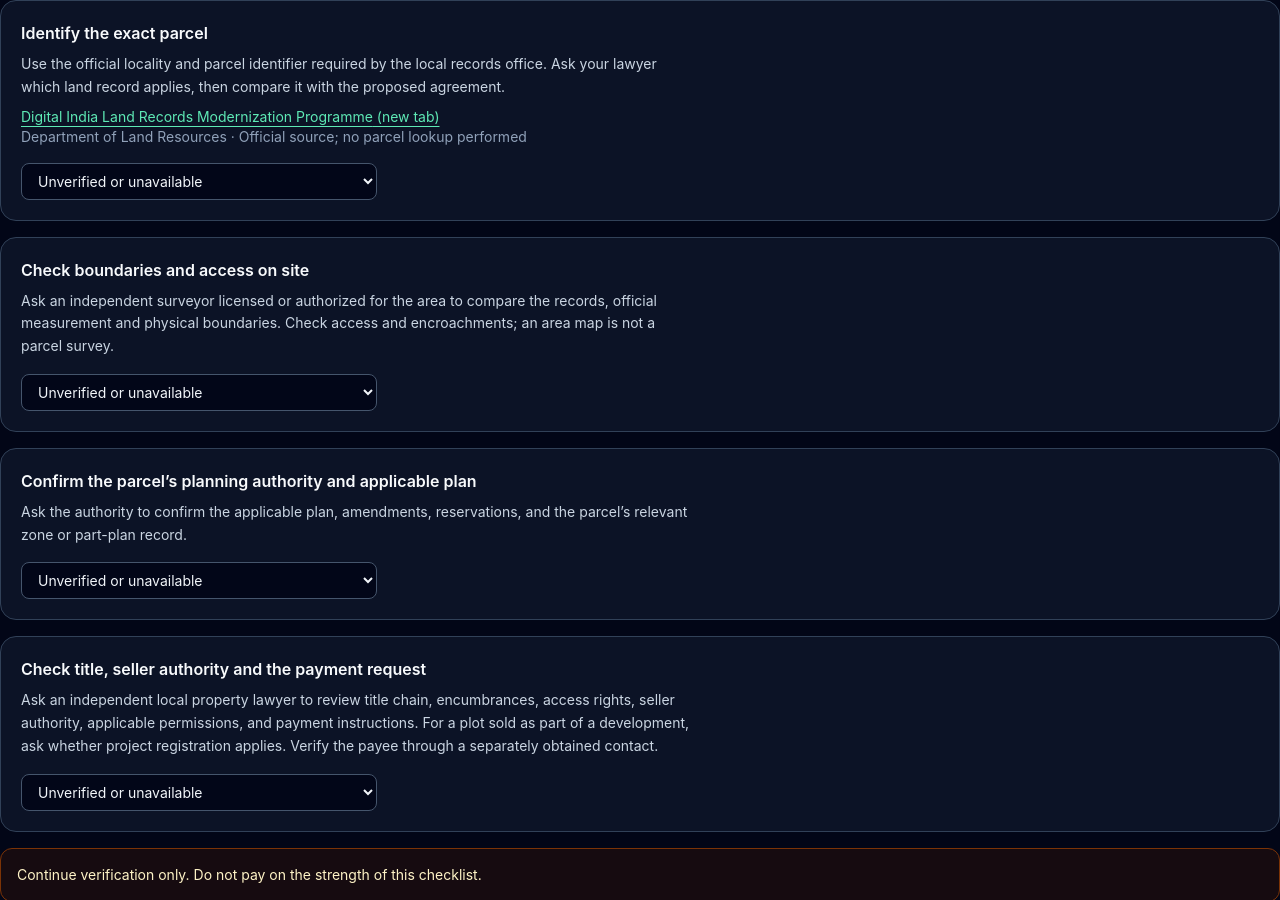
Test case: plot verification › walks a plot buyer from unknown through discrepancy and reported review without a payment clearance
Expected: the message shows "Continue verification only", left=17, top=866, right=482, bottom=882
Step 1. Select "Discrepancy or concern" in the dropdown labelled "Identify the exact parcel" → (199,181), box left=21, top=162, right=377, bottom=200
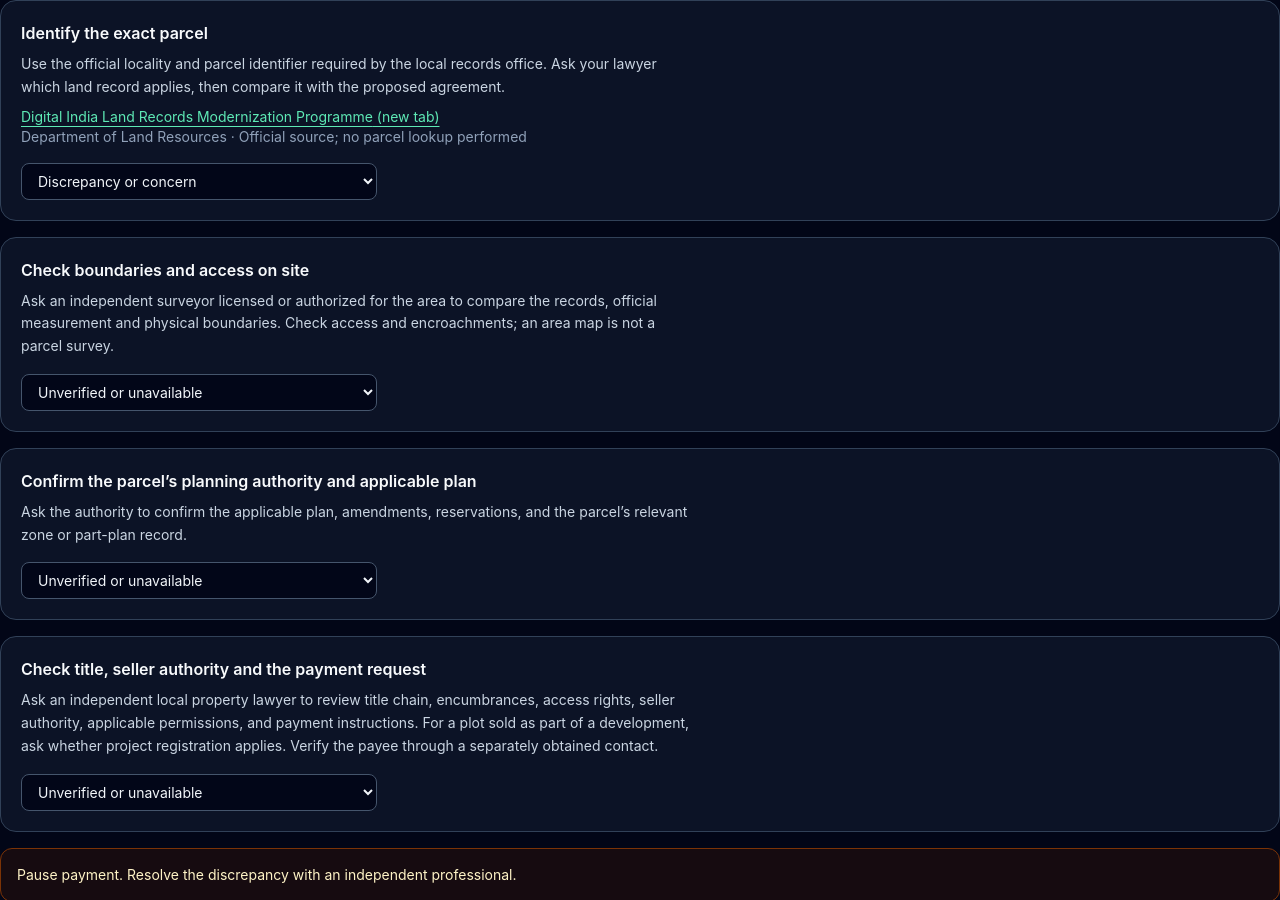
Now the message shows "Pause payment", box left=17, top=866, right=516, bottom=882
Step 2. Select "I obtained and reviewed evidence" in the dropdown labelled "Identify the exact parcel" → (199,181), box left=21, top=162, right=377, bottom=200
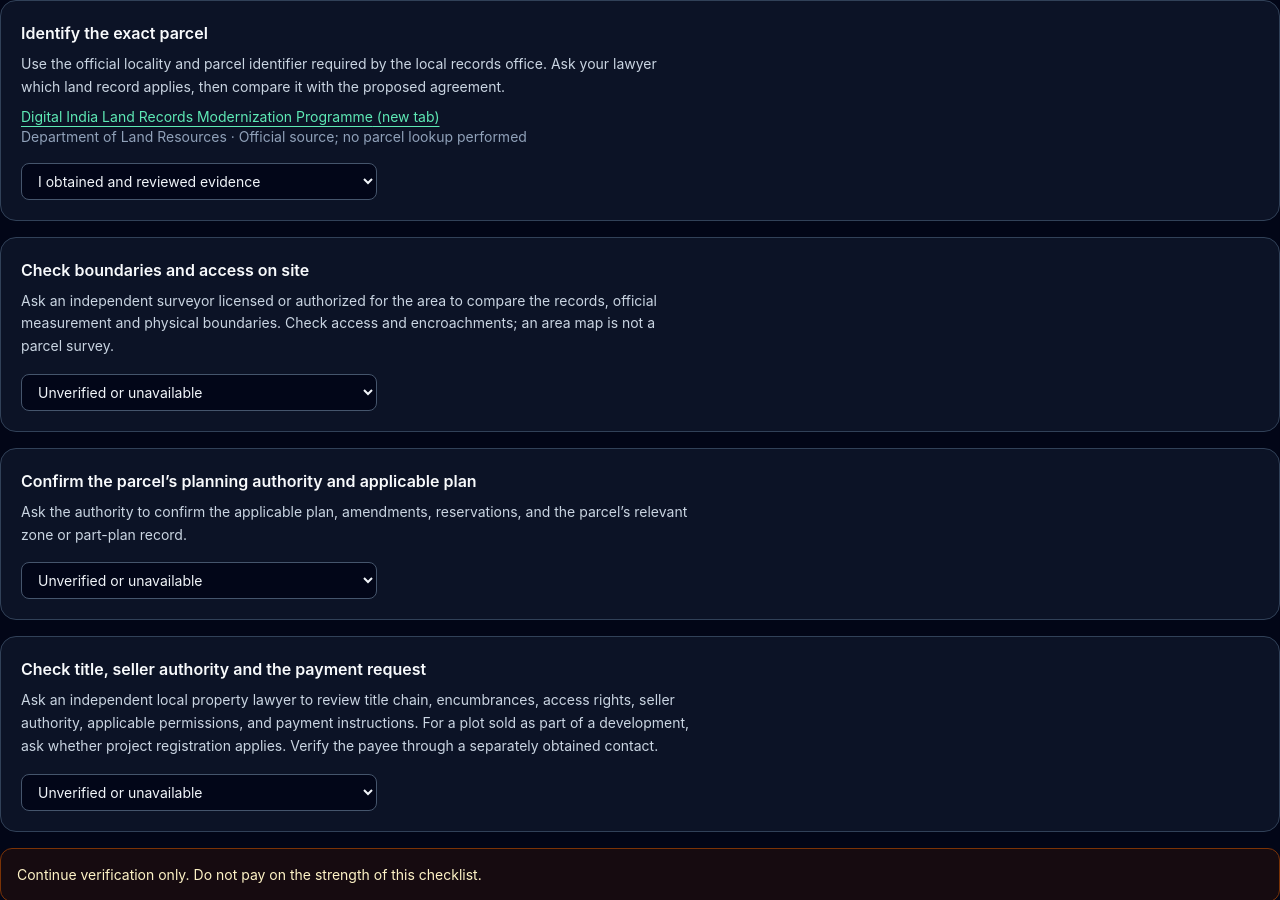
Step 3. Select "I obtained and reviewed evidence" in the dropdown labelled "Check boundaries and access on site" → (199,392), box left=21, top=374, right=377, bottom=411
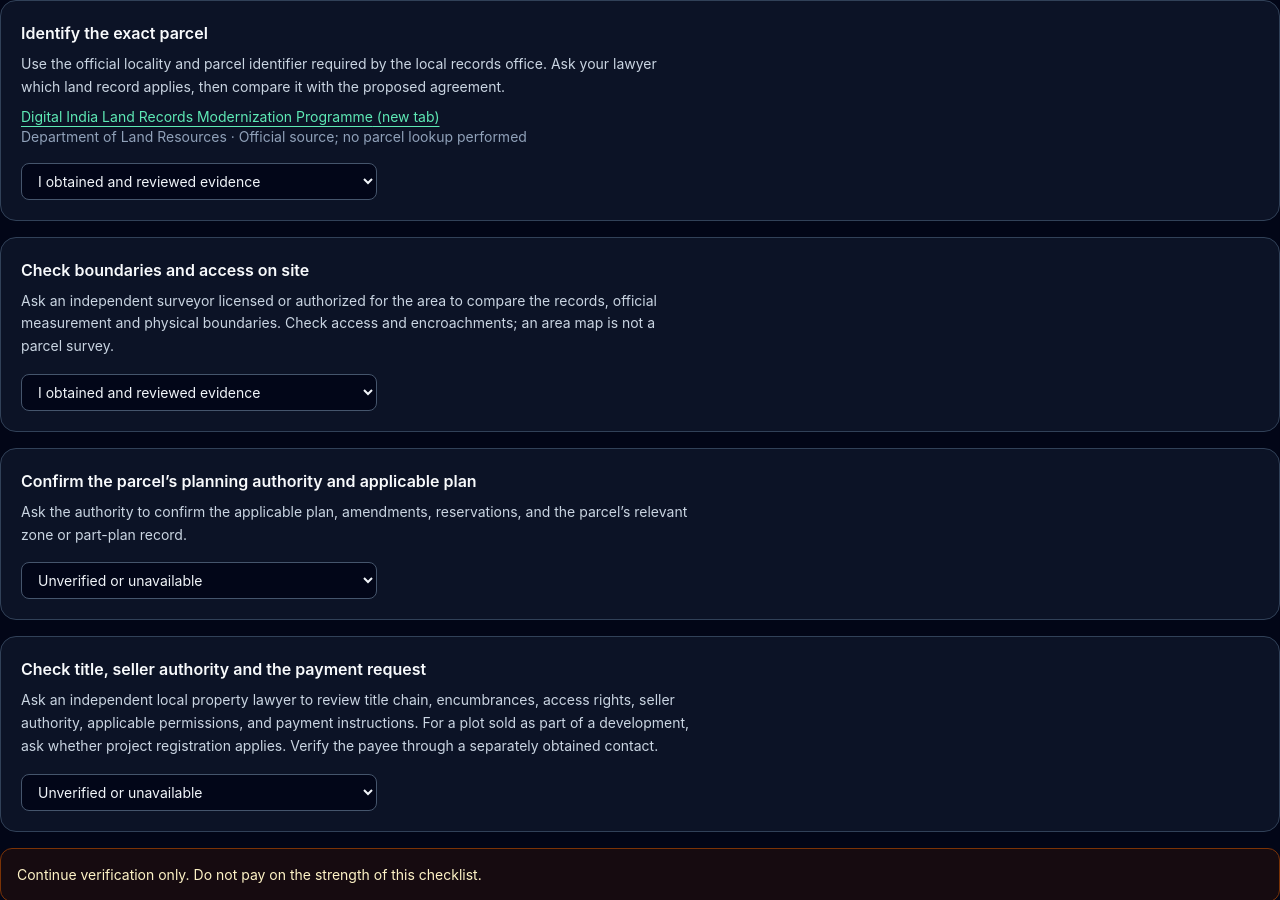
Step 4. Select "I obtained and reviewed evidence" in the dropdown labelled "Confirm the parcel’s planning authority and applicable plan" → (199,581), box left=21, top=562, right=377, bottom=599
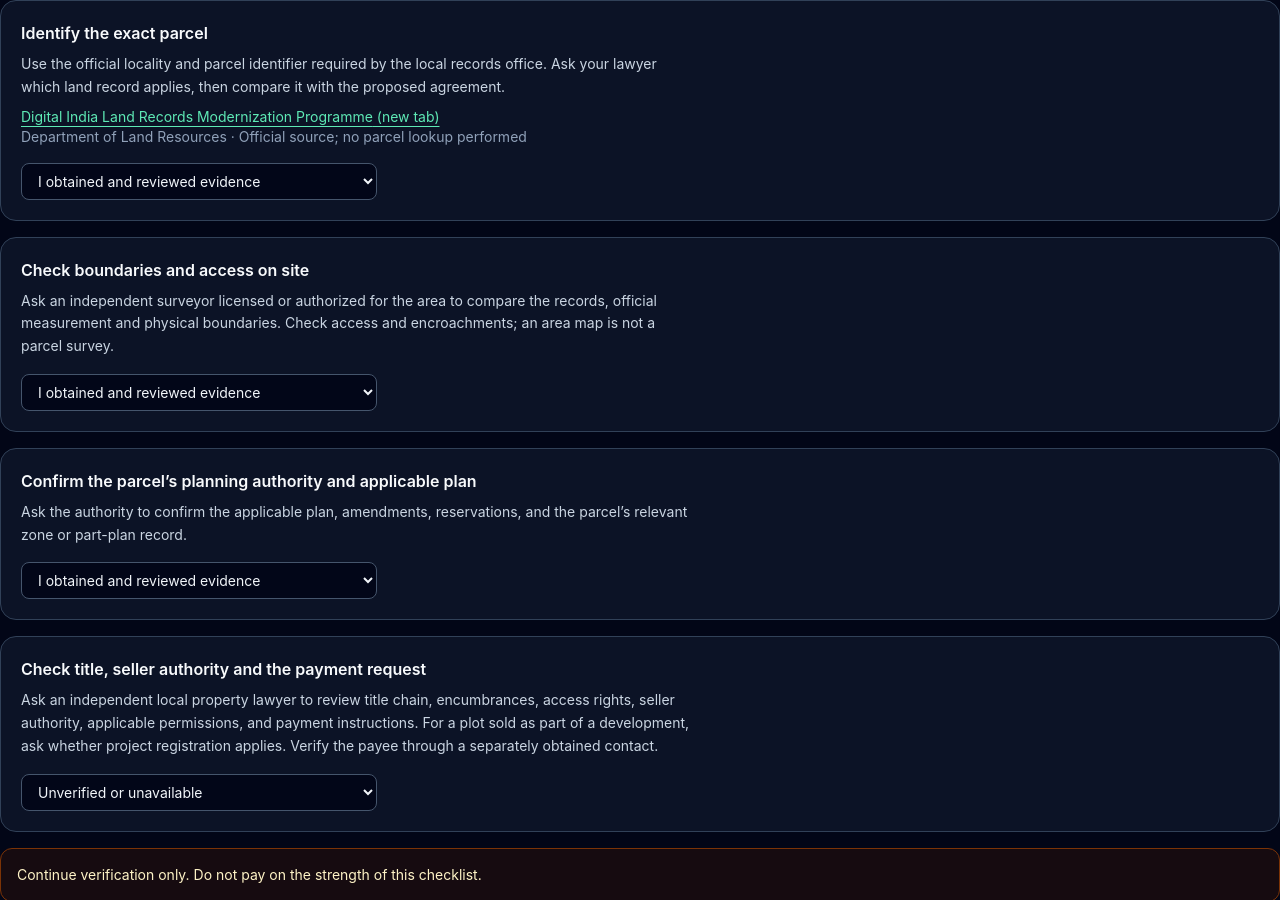
Step 5. Select "I obtained and reviewed evidence" in the dropdown labelled "Check title, seller authority and the payment request" → (199,792), box left=21, top=774, right=377, bottom=810
(page scrolled)
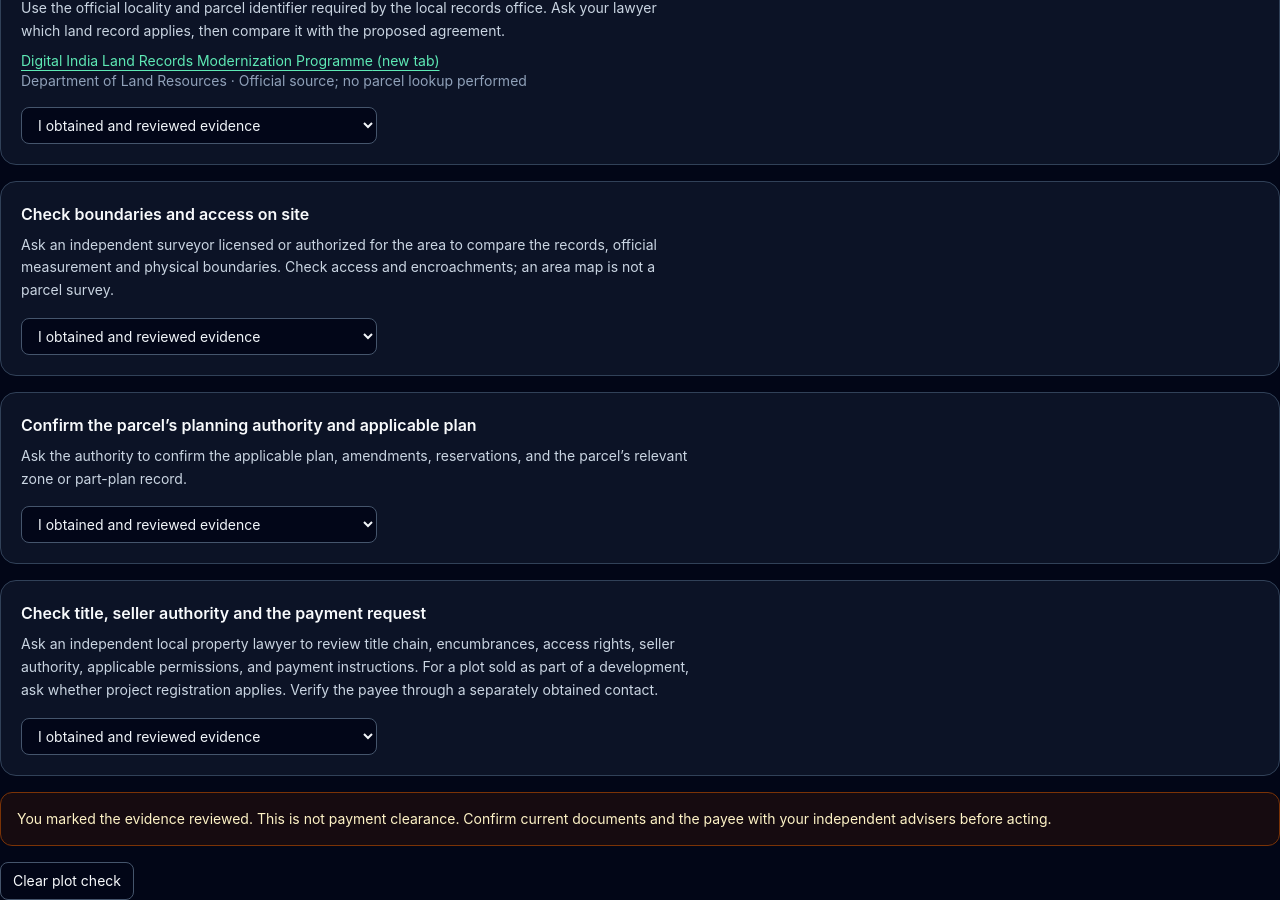
Now the message shows "not payment clearance", box left=17, top=810, right=1052, bottom=826
Step 6. Click the button "Clear plot check" → (67,880), box left=0, top=862, right=134, bottom=899
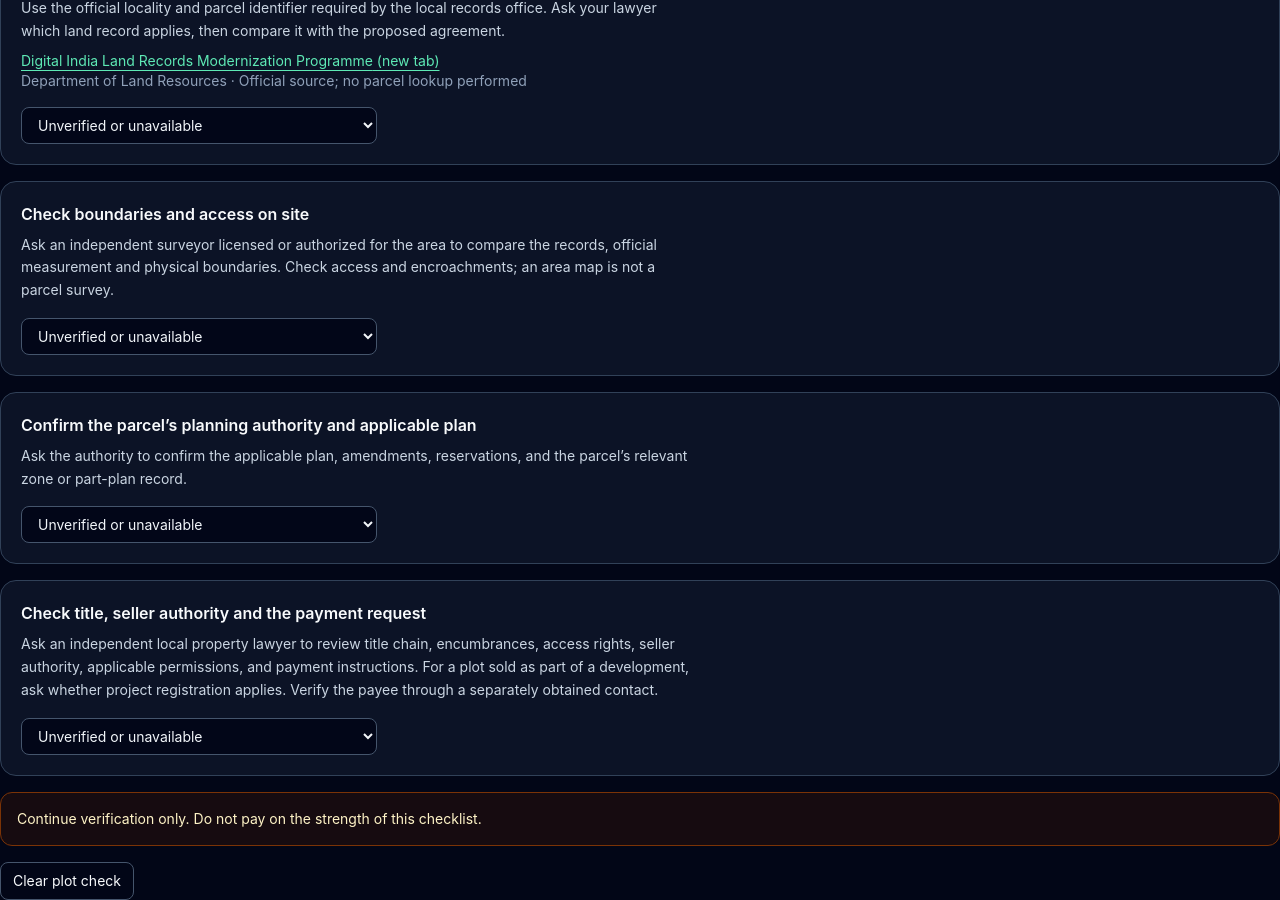
Now the message shows "Continue verification only", box left=17, top=810, right=482, bottom=826
